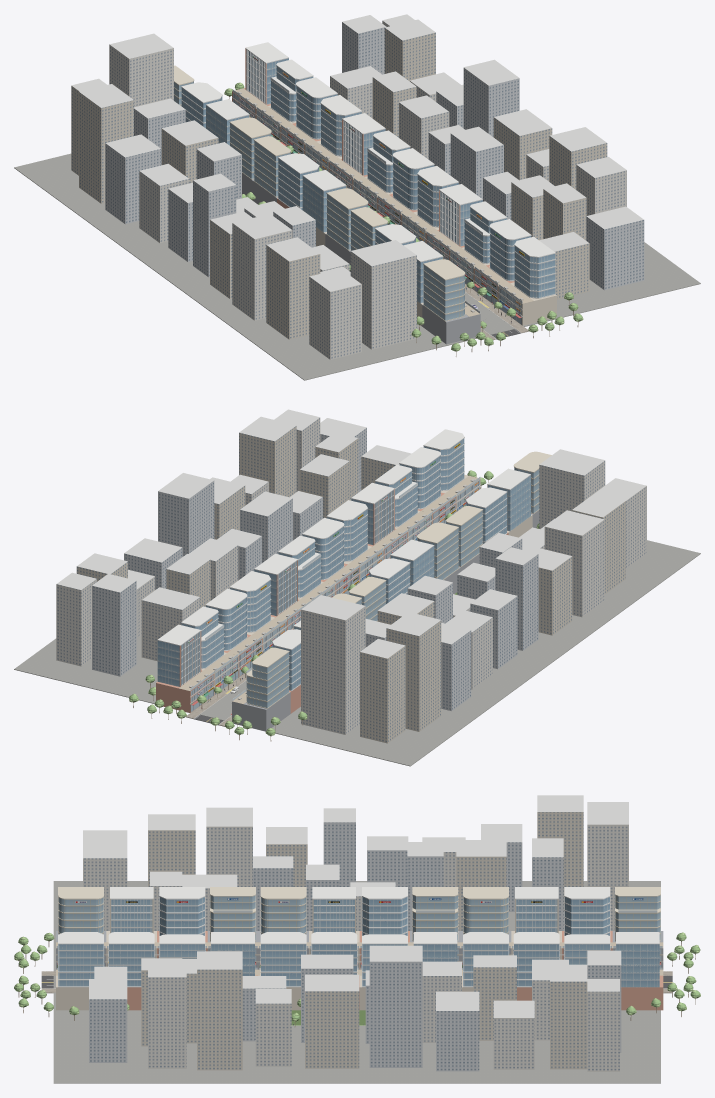
3 views of the same model, one above another, from view 1: azimuth 30°, elevation 25°; view 2: azimuth 150°, elevation 25°; view 3: azimuth 270°, elevation 25° (orthographic). The views are drawn at different scales.
Parts seen in each view (by area): view 1: Geom3D (×78); view 2: Geom3D (×73); view 3: Geom3D (×119).
Part boxes in pixels (<box>): Geom3D (×78): <box>14,19,700,380</box>; Geom3D (×73): <box>14,416,700,766</box>; Geom3D (×119): <box>53,795,663,1083</box>.
Bounding box in the file's own units: 208 × 57.96 × 299.
Materials: 242 (57 with a texture image).
